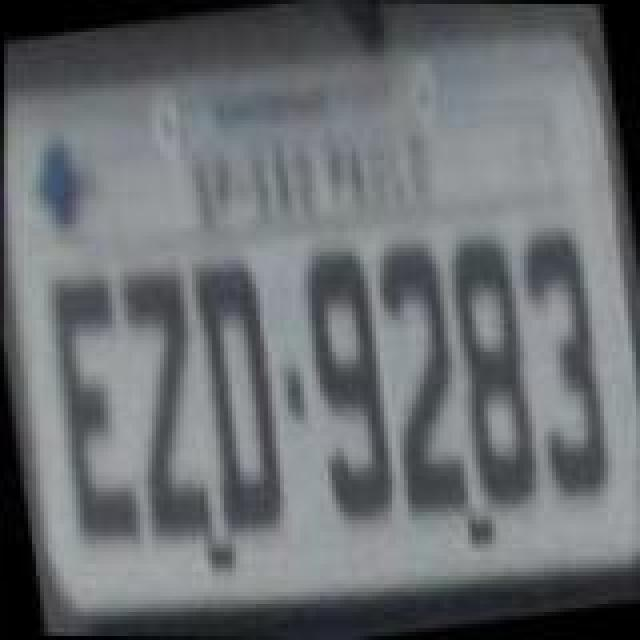2: (366, 234, 486, 522)
3: (504, 218, 620, 510)
8: (440, 224, 548, 516)
9: (288, 238, 408, 530)
D: (180, 248, 300, 540)
E: (38, 264, 154, 560)
Z: (106, 258, 222, 554)
